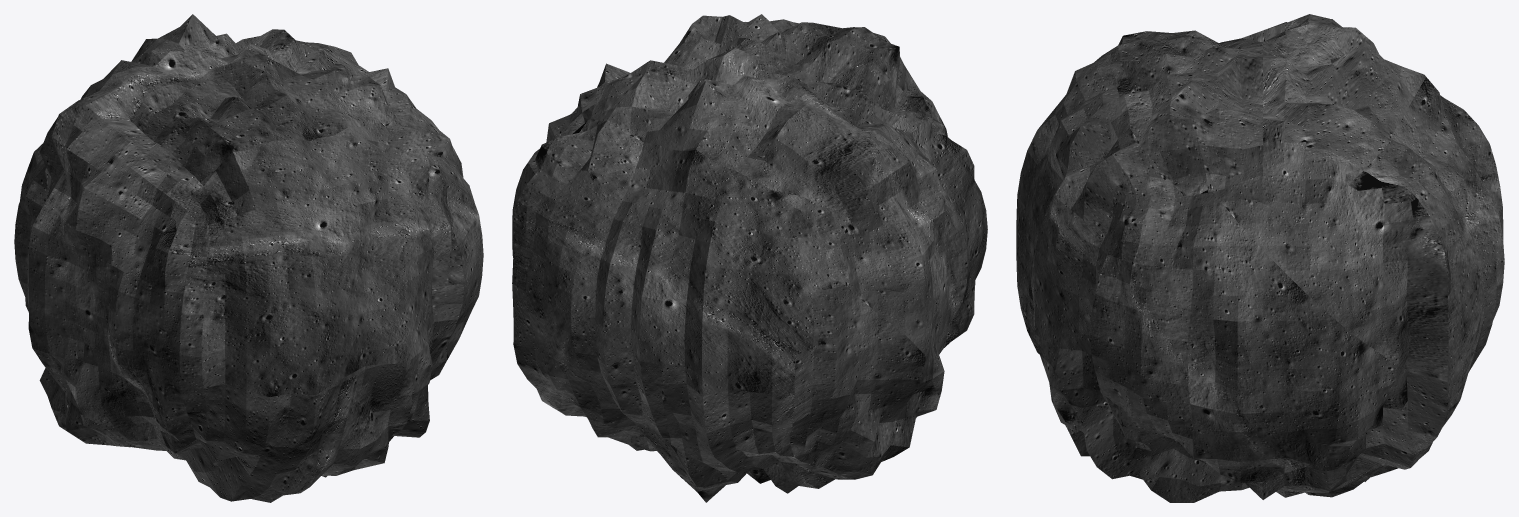
The model's file is asteroid118.obj.
3 renders of one model, left to right at view 1: azimuth 30°, elevation 25°; view 2: azimuth 150°, elevation 25°; view 3: azimuth 270°, elevation 25°, orthographic. The views are drawn at different scales.
Parts seen in each view (by area): view 1: Cube_Cube.002; view 2: Cube_Cube.002; view 3: Cube_Cube.002.
Part boxes in pixels (bbox=[...]): Cube_Cube.002: bbox=[14, 14, 483, 502]; Cube_Cube.002: bbox=[512, 14, 987, 502]; Cube_Cube.002: bbox=[1016, 14, 1504, 502].
Size of the model in its own units: 1.76 by 1.76 by 1.77.
